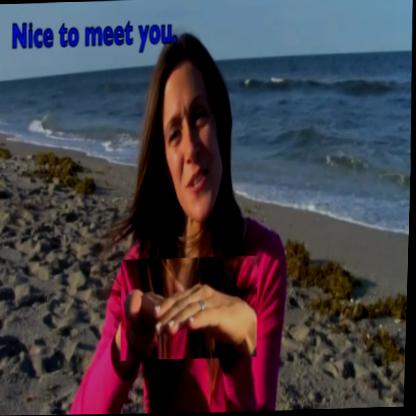NiceToMeetYou: (121, 256, 260, 360)
